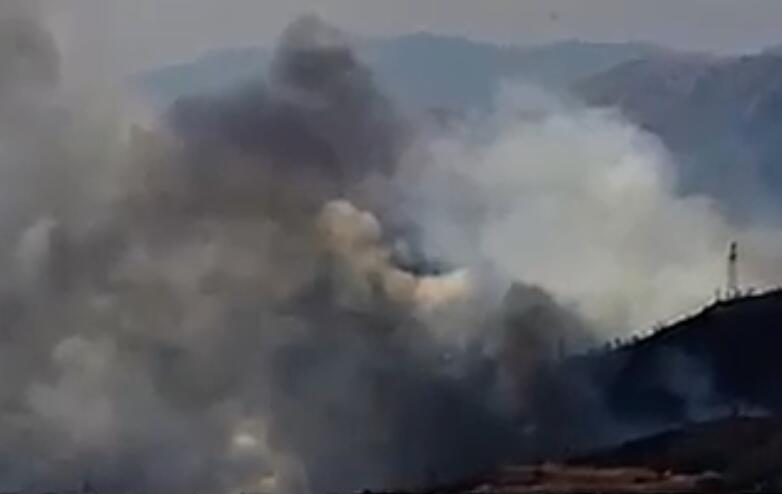smoke: (1, 1, 741, 477)
